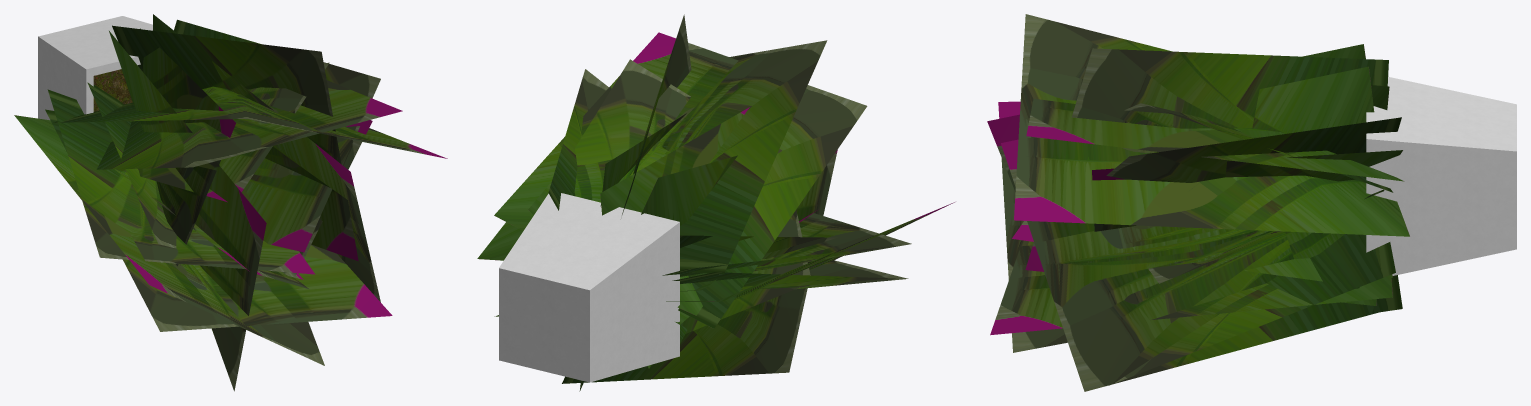
3 renders of one model, left to right at view 1: azimuth 30°, elevation 25°; view 2: azimuth 150°, elevation 25°; view 3: azimuth 270°, elevation 25°, orthographic. The views are drawn at different scales.
Parts seen in each view (by area): view 1: Pot_12_Low_PolyPlant_0; view 2: Pot_12_Low_PolyPlant_0; view 3: Pot_12_Low_PolyPlant_0.
Boxes of the visible parts, left/top/right/bottom form: Pot_12_Low_PolyPlant_0: left=14, top=14, right=447, bottom=391; Pot_12_Low_PolyPlant_0: left=477, top=14, right=954, bottom=391; Pot_12_Low_PolyPlant_0: left=987, top=14, right=1516, bottom=391.
Size of the model in its own units: 1.33 by 1.29 by 1.73.
1 material, 1 textured.
